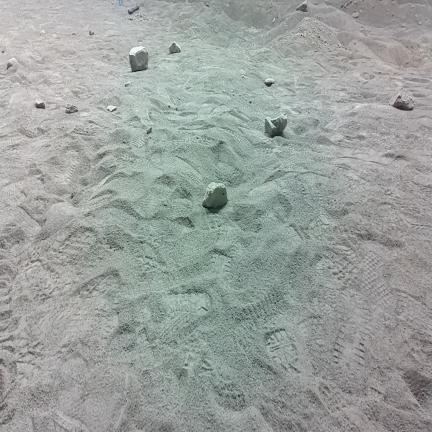Rock: (203, 183, 227, 209), (265, 114, 287, 137), (390, 88, 413, 110), (130, 47, 148, 71), (296, 0, 307, 12), (169, 42, 181, 53), (7, 58, 17, 69), (264, 78, 275, 87), (128, 5, 139, 14), (66, 105, 78, 113), (35, 101, 45, 108), (107, 105, 116, 112), (351, 12, 359, 18), (146, 127, 152, 134), (89, 30, 94, 36), (125, 81, 131, 86), (40, 30, 45, 35)
